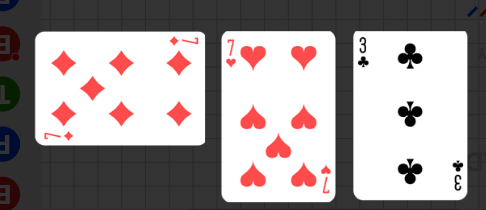3C: (450, 157, 464, 192)
7D: (168, 34, 200, 47), (43, 130, 75, 142)
